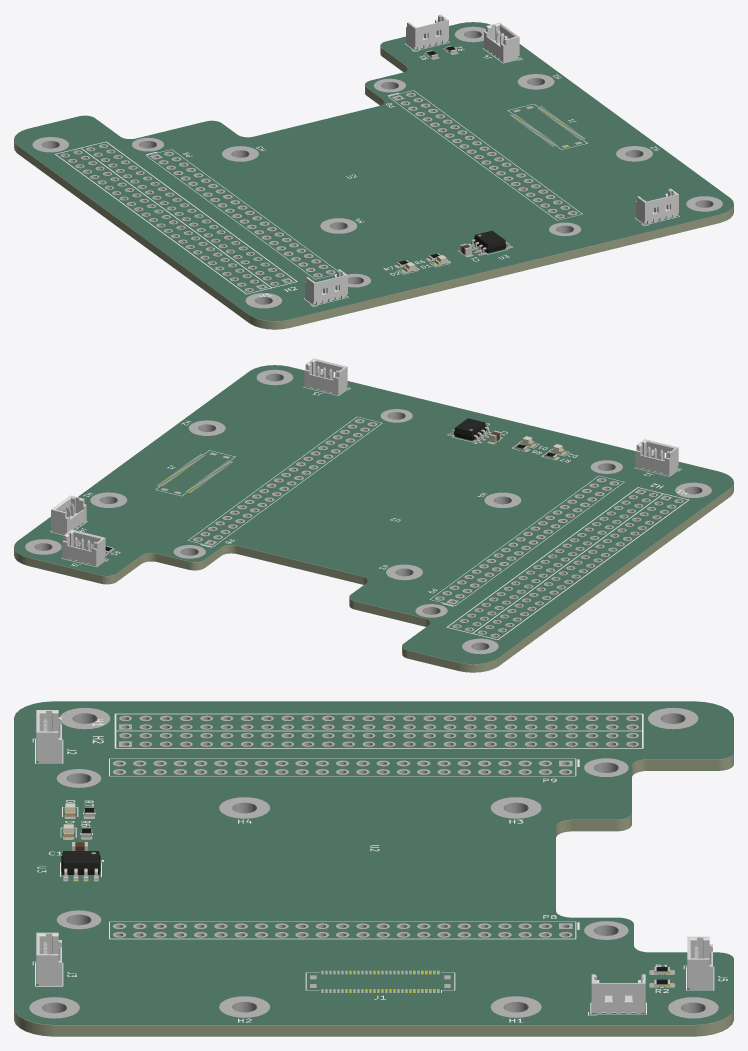
File: board.glb
3 views of the same model, one above another, from view 1: azimuth 30°, elevation 25°; view 2: azimuth 150°, elevation 25°; view 3: azimuth 270°, elevation 25° (orthographic). The views are drawn at different scales.
Visible parts, largest first — view 1: =>[0:1:1:7], =>0:1:1:4; view 2: =>[0:1:1:7], =>0:1:1:4; view 3: =>[0:1:1:7], =>0:1:1:4.
Part boxes in pixels (<box>): =>[0:1:1:7]: <box>14,22,733,329</box>; =>0:1:1:4: <box>305,14,678,304</box>; =>[0:1:1:7]: <box>14,365,733,672</box>; =>0:1:1:4: <box>51,358,678,566</box>; =>[0:1:1:7]: <box>14,701,733,1036</box>; =>0:1:1:4: <box>36,710,712,1013</box>.
Bounding box in the file's own units: 0.0959 × 0.0065 × 0.0902.
1 material, 1 textured.
